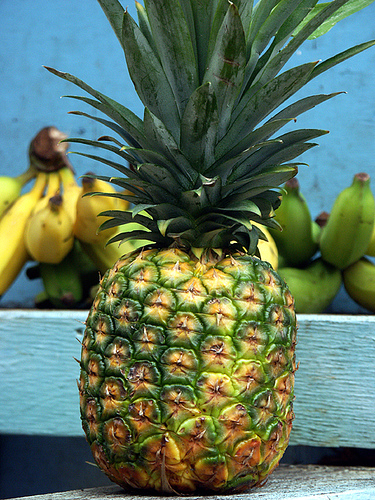pineapple: (36, 0, 373, 498)
